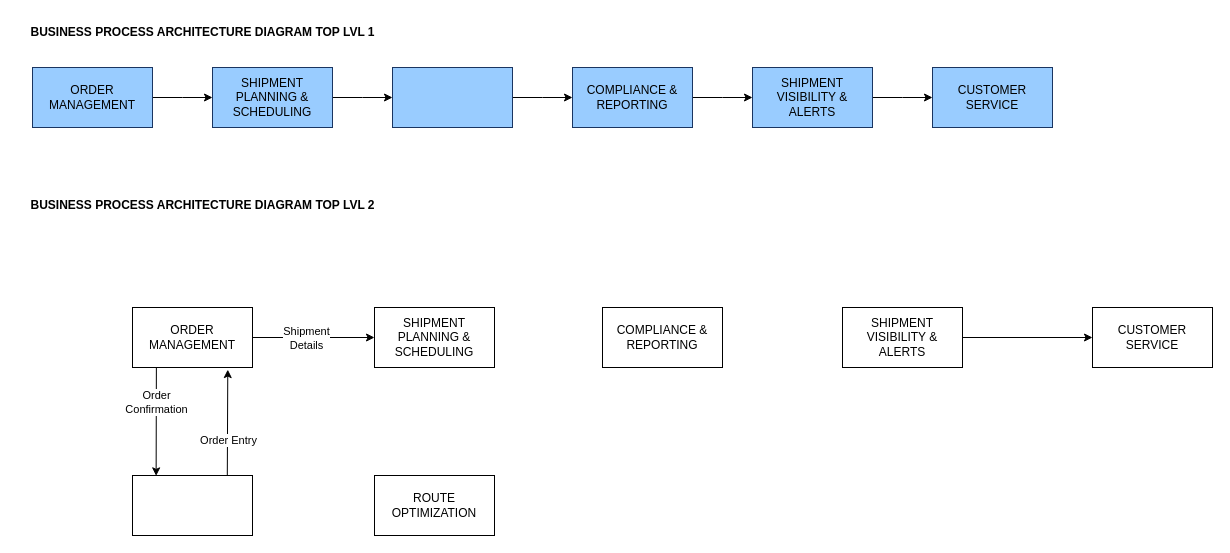
Image size: 1230x553. Some labels were removed from this diagram. The box of each missing label's shape, as (x1, y1, x2, y2) in pixels:
CUSTOMER: (132, 474, 252, 536)
INVOICING & BILLING: (392, 66, 512, 128)
